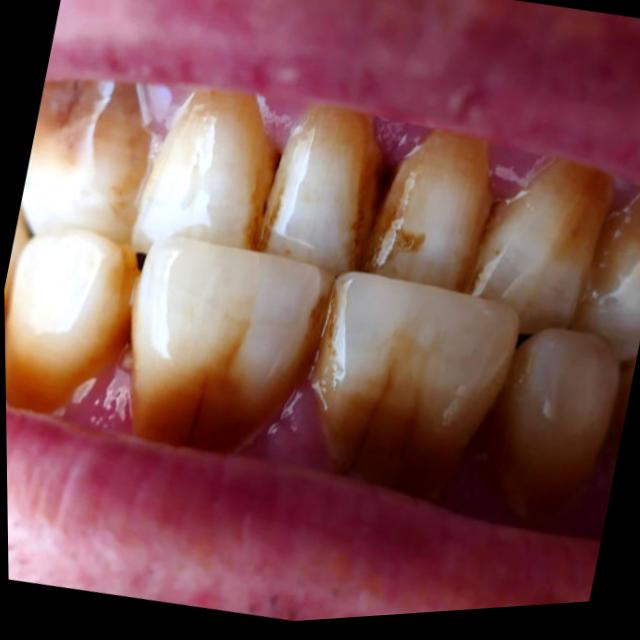calculus: (130, 339, 288, 451), (5, 289, 128, 413), (476, 159, 557, 278), (35, 81, 150, 154), (372, 131, 428, 264), (549, 167, 609, 276), (236, 109, 274, 242), (590, 192, 640, 292), (346, 119, 379, 259), (286, 297, 327, 394), (312, 299, 345, 410), (166, 242, 242, 272)
